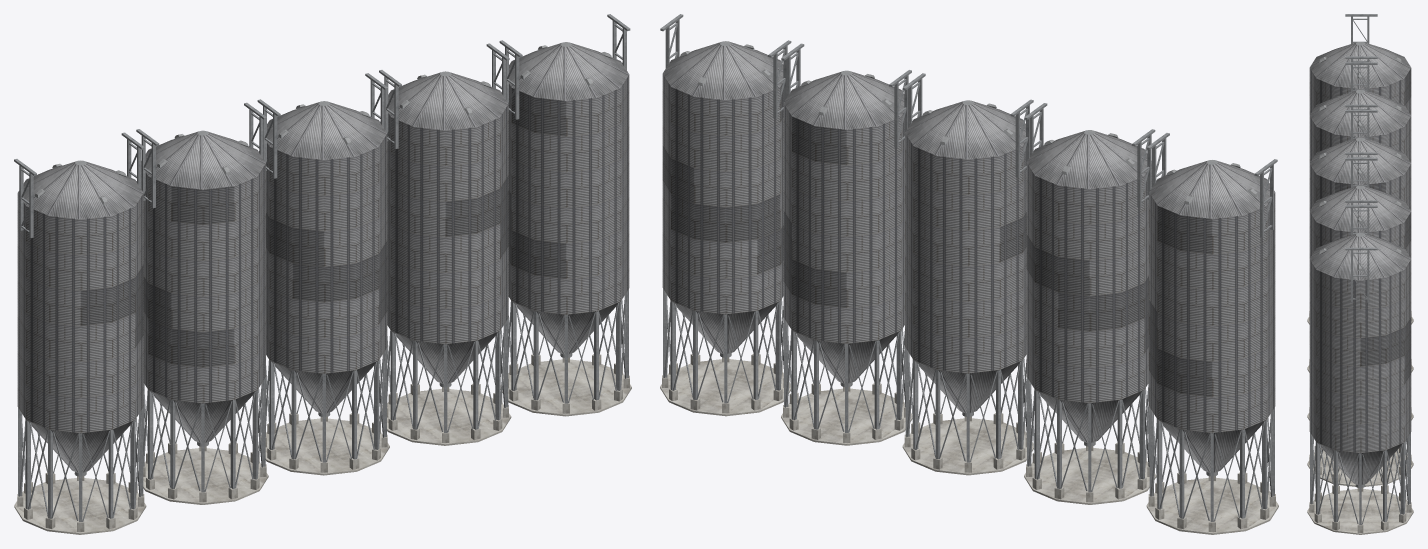
File: plant-silos2.glb
The picture shows the model from 3 angles, left to right: view 1: azimuth 30°, elevation 25°; view 2: azimuth 150°, elevation 25°; view 3: azimuth 270°, elevation 25°; orthographic projection. The views are drawn at different scales.
Parts seen in each view (by area): view 1: Object8934420; view 2: Object8934420; view 3: Object8934420.
Part boxes in pixels (box(x1,y1,x2,y2)): Object8934420: box(14, 14, 631, 534); Object8934420: box(660, 14, 1278, 534); Object8934420: box(1307, 14, 1413, 534).
Bounding box in the file's own units: 57.71 × 32.47 × 11.
Materials: 1 (1 with a texture image).
